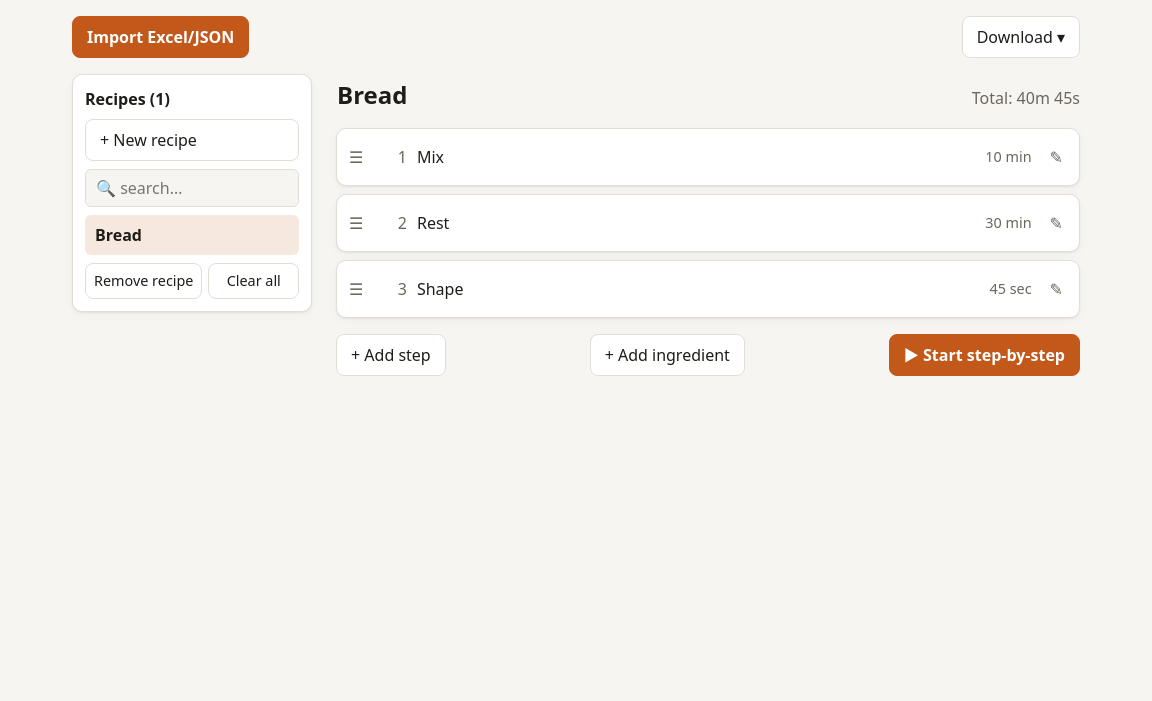
Test: add ingredient opens Name/Amount editor without Duration
The image size is (1152, 701).
Earlier steps of the test are not shown.
Click the button "+ Add ingredient" at (667, 355), box [590,334,745,376]
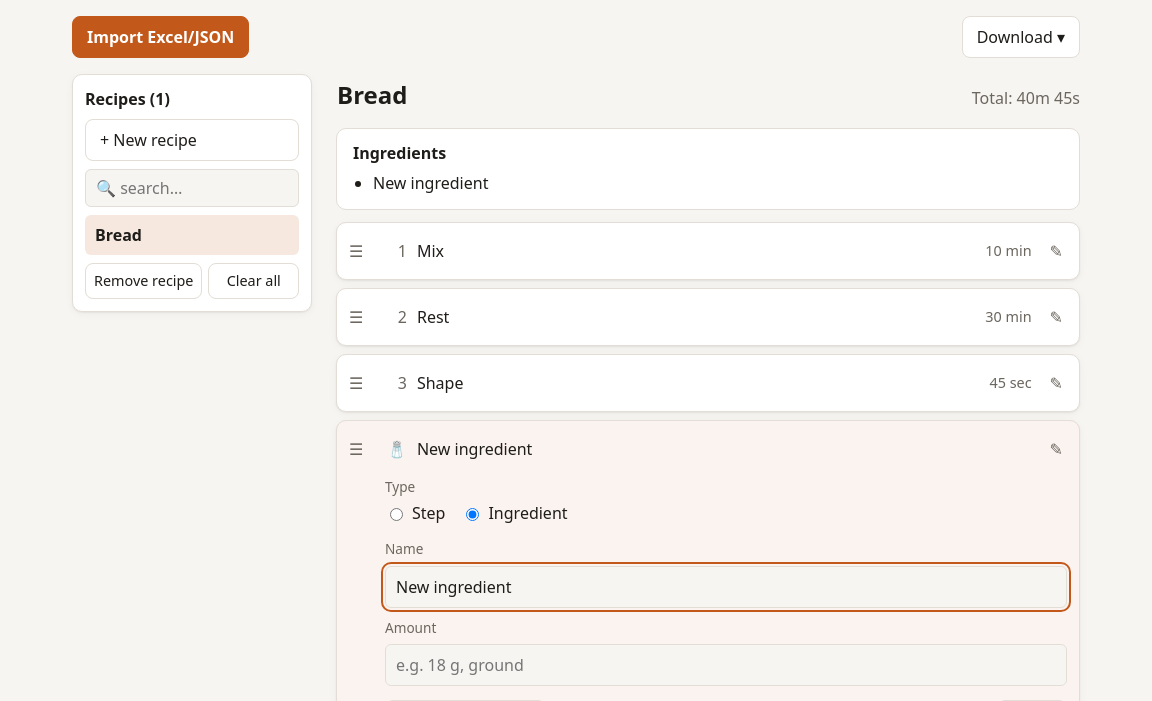
expect the field labelled "Name" holds "New ingredient": met, box [385,566,1067,608]
expect the field labelled "Amount" is shown: met, box [385,644,1067,686]
